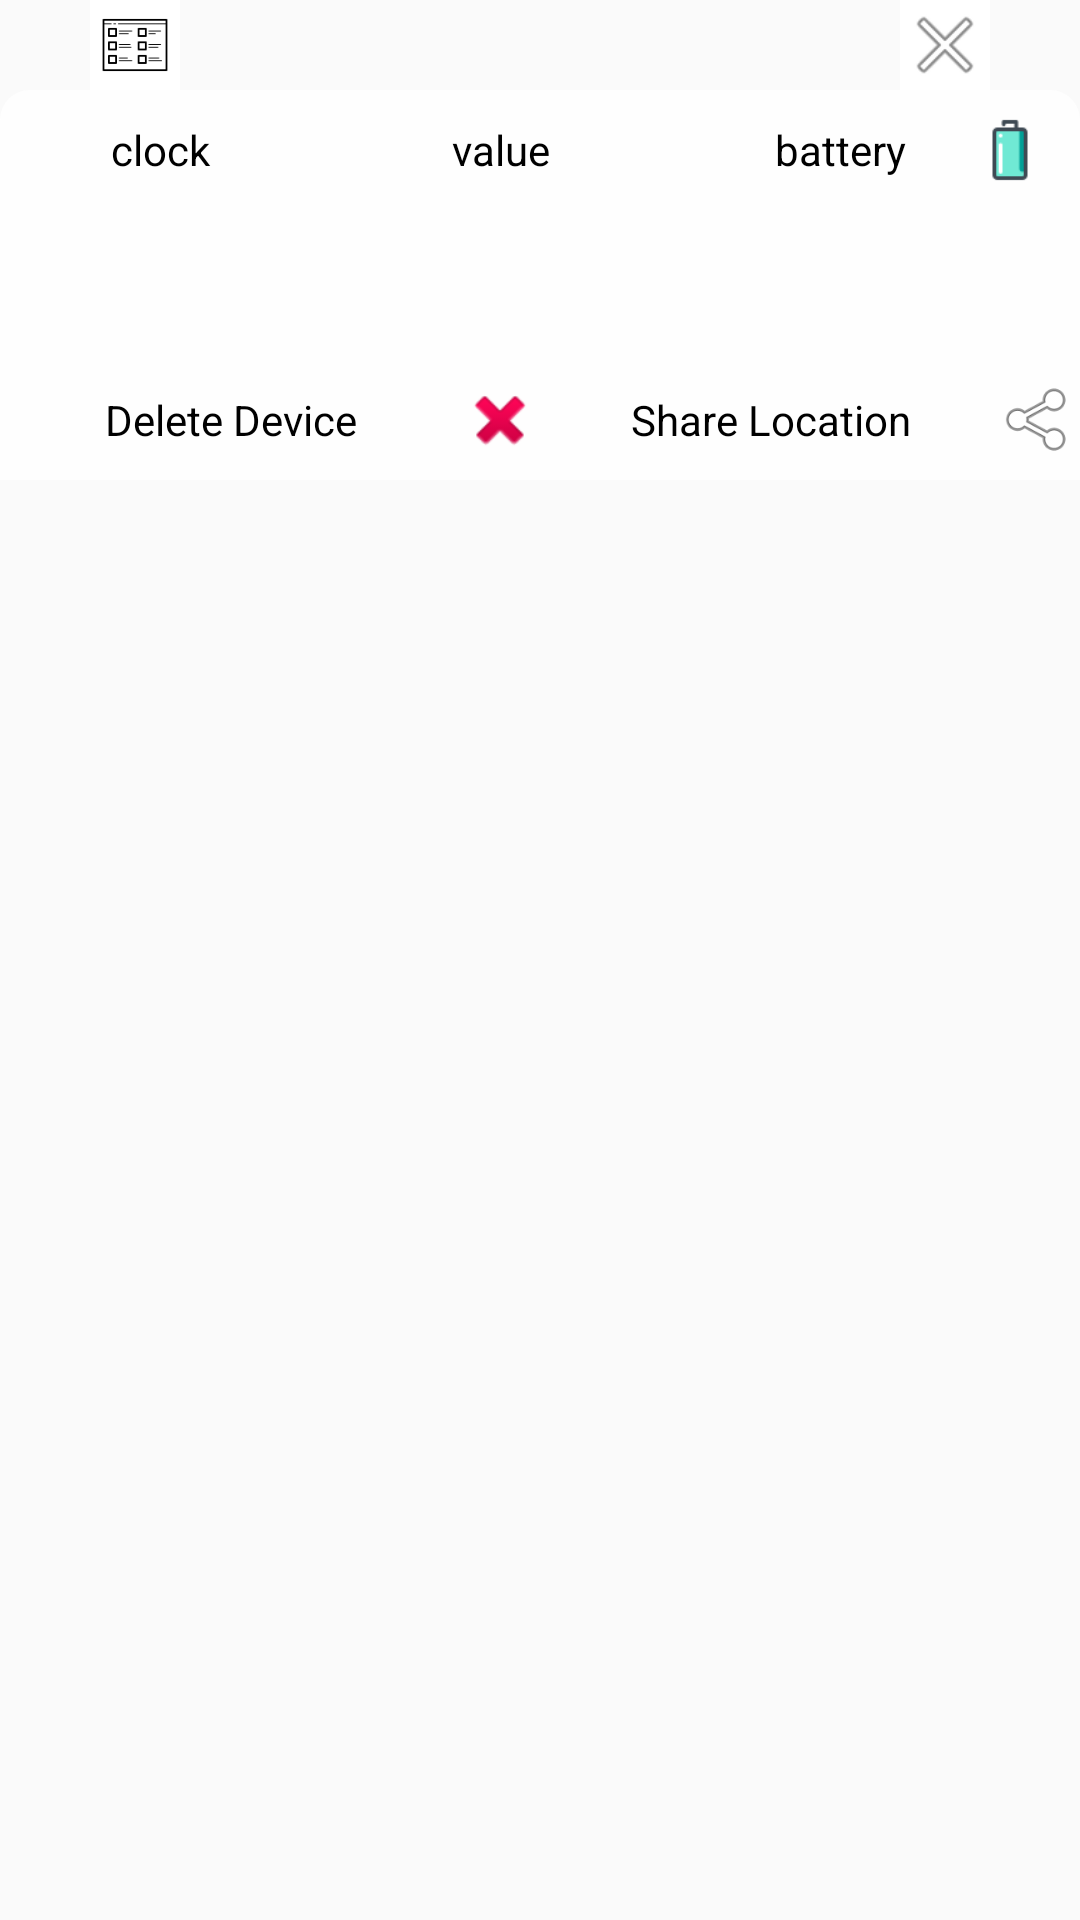

Icon bounding boxes for this 1080 × 1920 phone screenshot, format (x1, y1, x2, y2):
close clear cancel: (917, 17, 973, 73)
moredetail: (102, 19, 168, 71)
